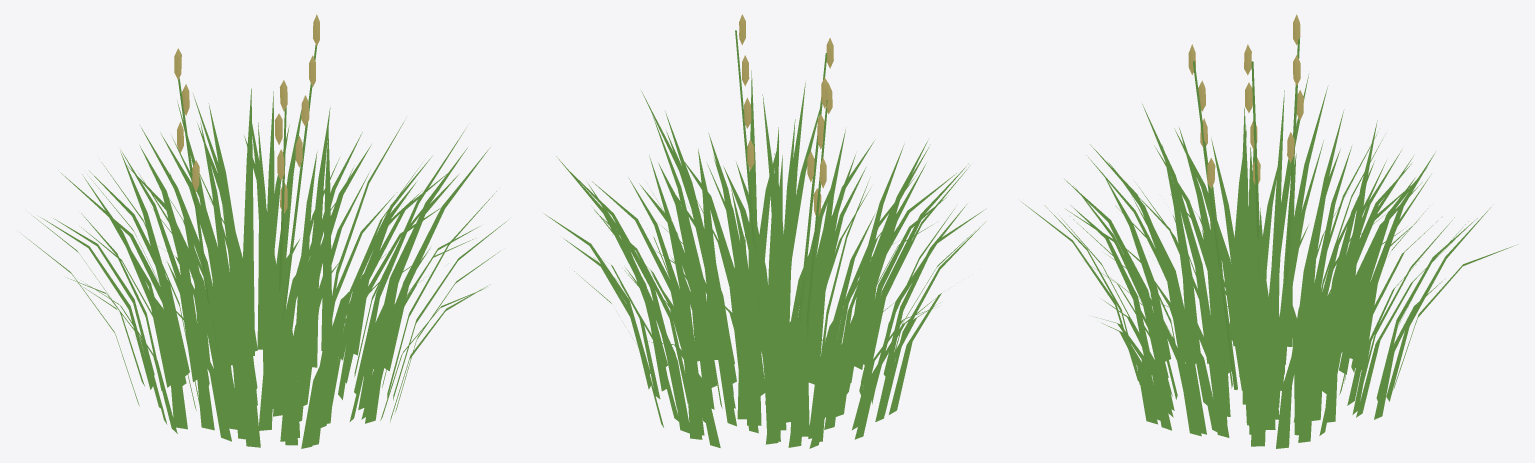
Rendered from Blender_Spartina_1.glb.
The picture shows the model from 3 angles, left to right: view 1: azimuth 30°, elevation 25°; view 2: azimuth 150°, elevation 25°; view 3: azimuth 270°, elevation 25°; orthographic projection. The views are drawn at different scales.
Visible parts, largest first — view 1: Blender_Spartina_1; view 2: Blender_Spartina_1; view 3: Blender_Spartina_1.
Boxes of the visible parts, left/top/right/bottom form: Blender_Spartina_1: left=23, top=14, right=506, bottom=448; Blender_Spartina_1: left=545, top=14, right=986, bottom=448; Blender_Spartina_1: left=1022, top=14, right=1517, bottom=448.
Bounding box in the file's own units: 1.97 × 1.63 × 2.02.
